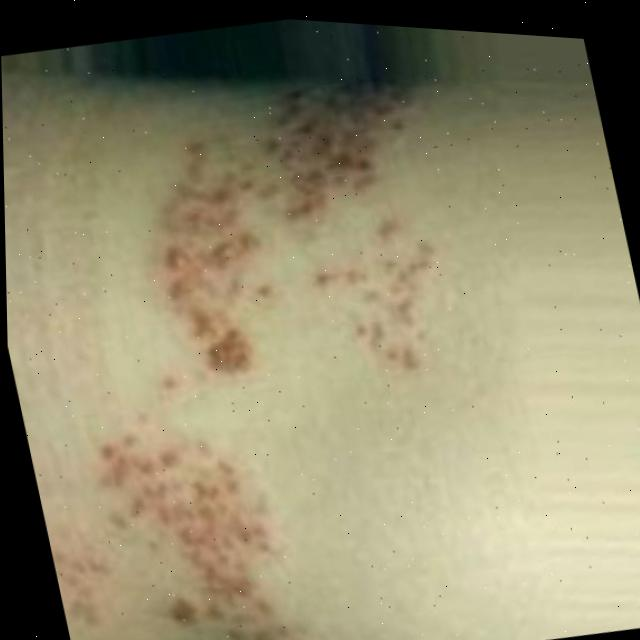Shingles: (121, 51, 484, 420), (27, 392, 333, 640)
